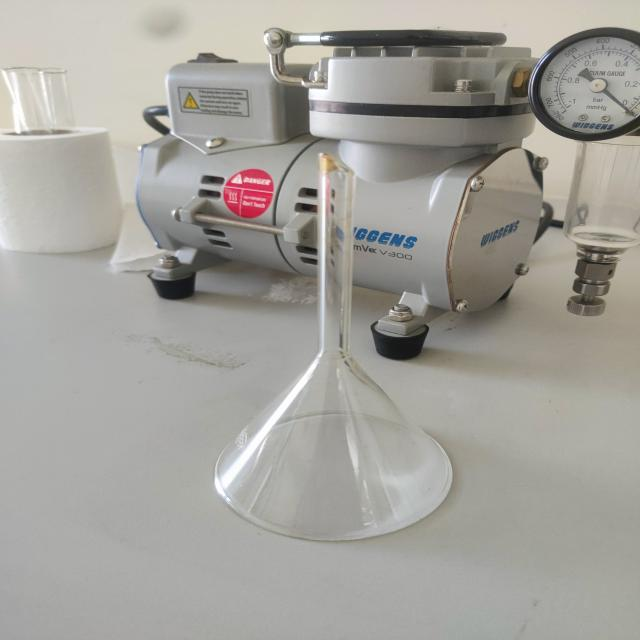Funnel: (167, 127, 502, 578)
